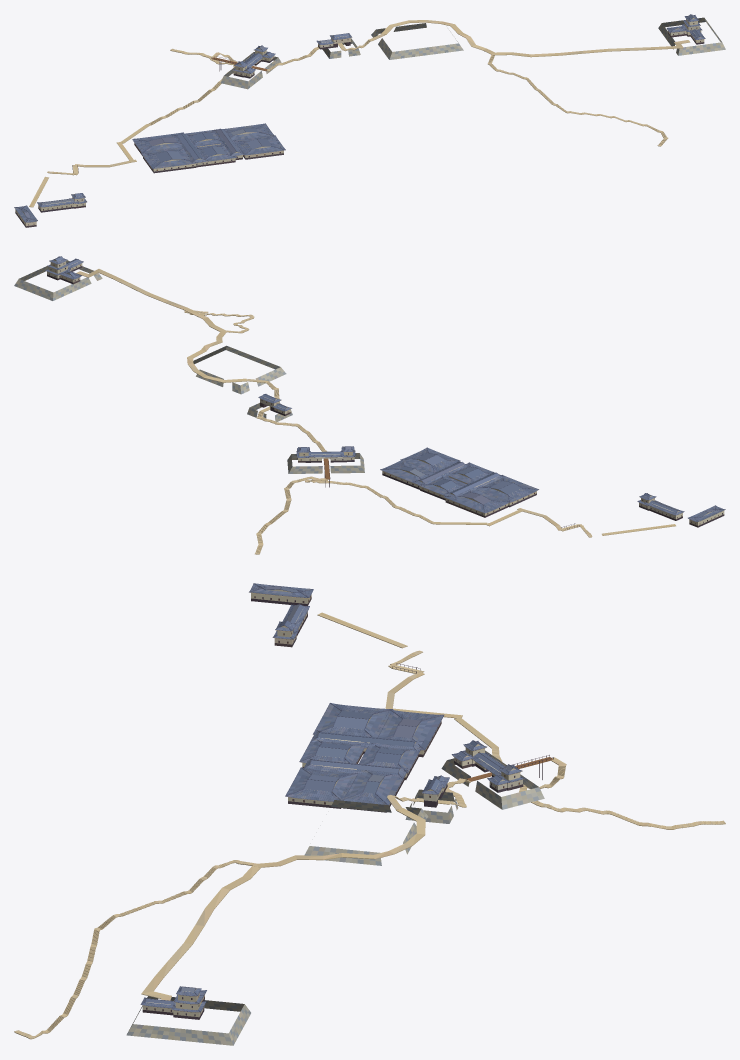
Rendered from ART_HikoneCompound.glb.
3 renders of one model, top to bottom at view 1: azimuth 30°, elevation 25°; view 2: azimuth 150°, elevation 25°; view 3: azimuth 270°, elevation 25°, orthographic. The views are drawn at different scales.
Parts seen in each view (by area): view 1: ART_HikoneCompound; view 2: ART_HikoneCompound; view 3: ART_HikoneCompound.
Part boxes in pixels (x1=…): ART_HikoneCompound: x1=14, y1=14, x2=725, y2=227; ART_HikoneCompound: x1=14, y1=256, x2=725, y2=554; ART_HikoneCompound: x1=14, y1=583, x2=725, y2=1045.
Size of the model in its own units: 559 by 55.42 by 319.
